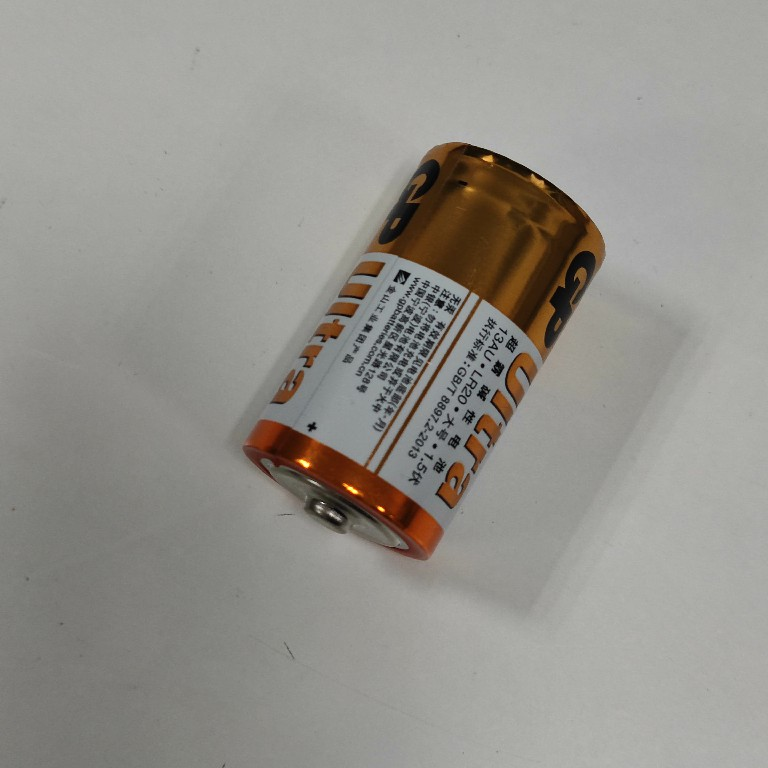charge: (239, 139, 608, 561)
